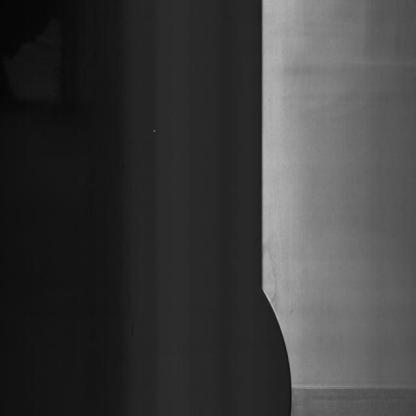crescent_gap: (251, 280, 302, 416)
